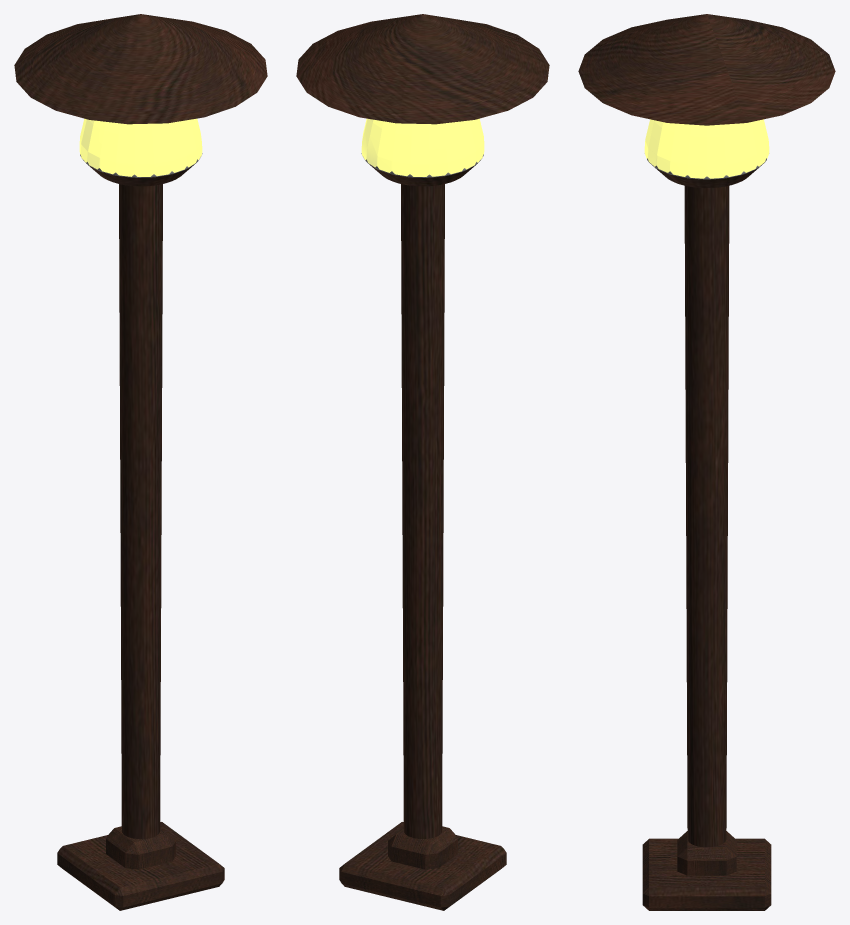
File: farola.glb
The picture shows the model from 3 angles, left to right: view 1: azimuth 30°, elevation 25°; view 2: azimuth 150°, elevation 25°; view 3: azimuth 270°, elevation 25°; orthographic projection.
Parts seen in each view (by area): view 1: pCylinder1, pCone1, pCube1, pCylinder2, pCube2; view 2: pCylinder1, pCone1, pCube1, pCylinder2, pCube2; view 3: pCylinder1, pCone1, pCube1, pCylinder2, pCube2.
Part boxes in pixels (bbox=[...]): pCylinder1: bbox=[119, 184, 162, 838]; pCone1: bbox=[14, 14, 267, 124]; pCube1: bbox=[57, 822, 224, 910]; pCylinder2: bbox=[79, 118, 202, 186]; pCube2: bbox=[106, 826, 175, 869]; pCylinder1: bbox=[401, 184, 444, 838]; pCone1: bbox=[296, 14, 549, 124]; pCube1: bbox=[339, 822, 506, 910]; pCylinder2: bbox=[361, 118, 484, 186]; pCube2: bbox=[388, 826, 457, 869]; pCylinder1: bbox=[684, 185, 729, 847]; pCone1: bbox=[578, 14, 835, 125]; pCube1: bbox=[642, 838, 771, 910]; pCylinder2: bbox=[644, 119, 769, 188]; pCube2: bbox=[677, 831, 736, 875].
Bounding box in the file's own units: 0.02 × 0.0749 × 0.02.
Materials: 3 (1 with a texture image).
